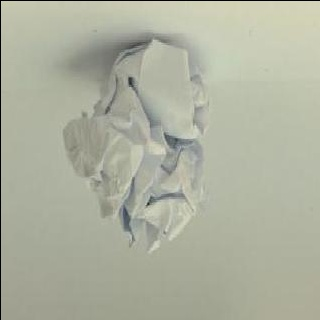8/可回收垃圾/纸: (63, 38, 209, 253)
